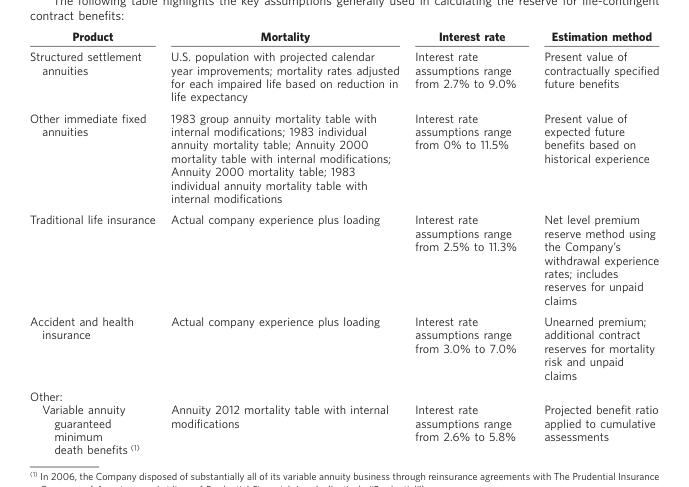table: (29, 29, 658, 455)
table column: (162, 29, 406, 455), (29, 29, 162, 455), (529, 29, 658, 455), (406, 29, 529, 455)
table column header: (29, 29, 658, 45)
table row: (29, 106, 658, 208), (29, 208, 658, 310), (29, 310, 658, 384), (29, 384, 658, 455), (29, 45, 658, 106), (29, 29, 658, 45)
